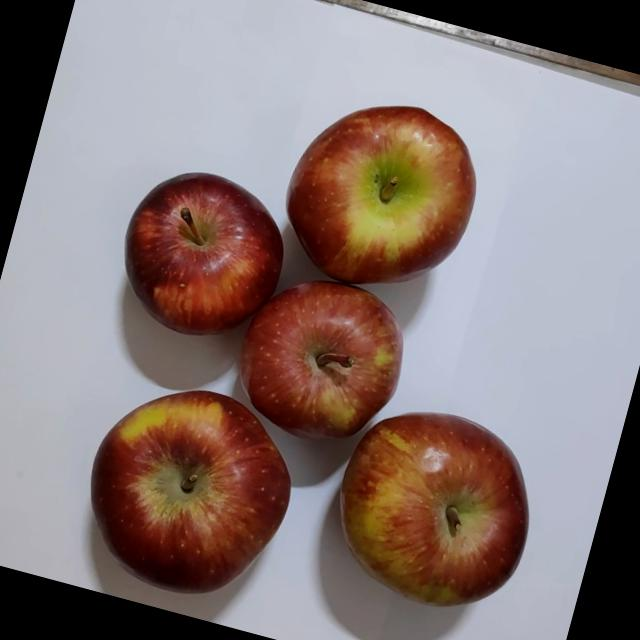apple: (52, 356, 320, 624), (301, 380, 558, 640), (258, 80, 506, 324), (217, 258, 424, 462), (102, 154, 301, 358)
